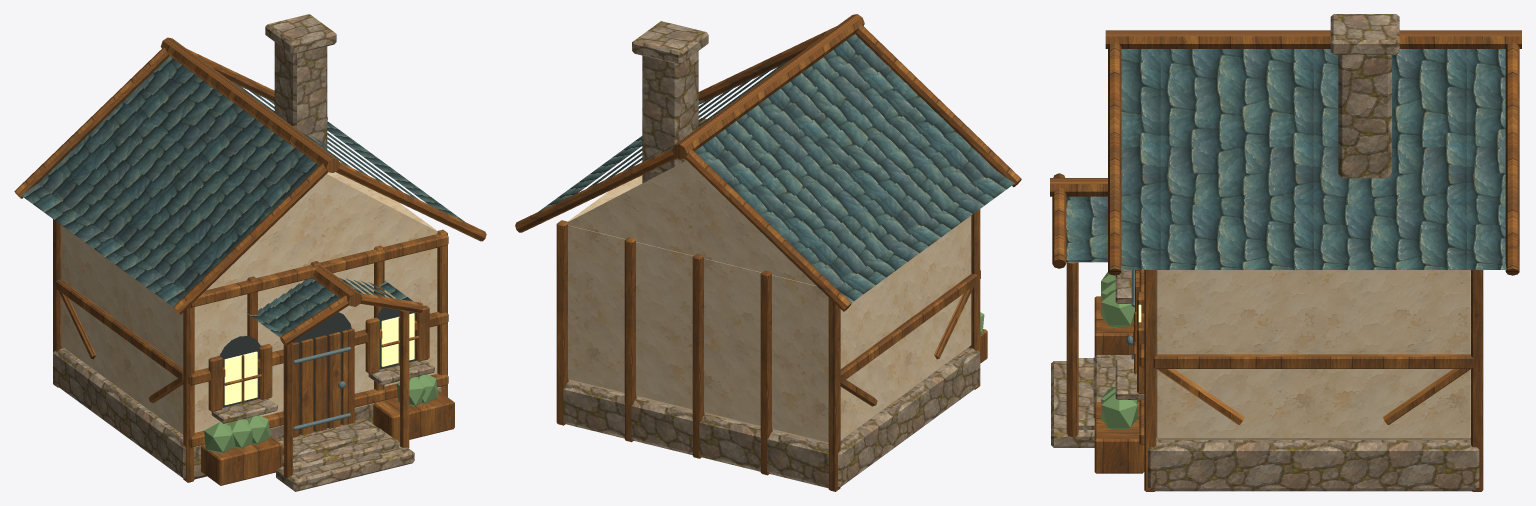
The model's file is cottage.glb.
3 renders of one model, left to right at view 1: azimuth 30°, elevation 25°; view 2: azimuth 150°, elevation 25°; view 3: azimuth 270°, elevation 25°, orthographic. The views are drawn at different scales.
Visible parts, largest first — view 1: SM_cottage; view 2: SM_cottage; view 3: SM_cottage.
Boxes of the visible parts, <box> form: SM_cottage: <box>14,14,486,491</box>; SM_cottage: <box>515,14,1021,491</box>; SM_cottage: <box>1050,14,1521,491</box>.
Size of the model in its own units: 5.9 by 6.19 by 6.16.
8 materials, 4 textured.
